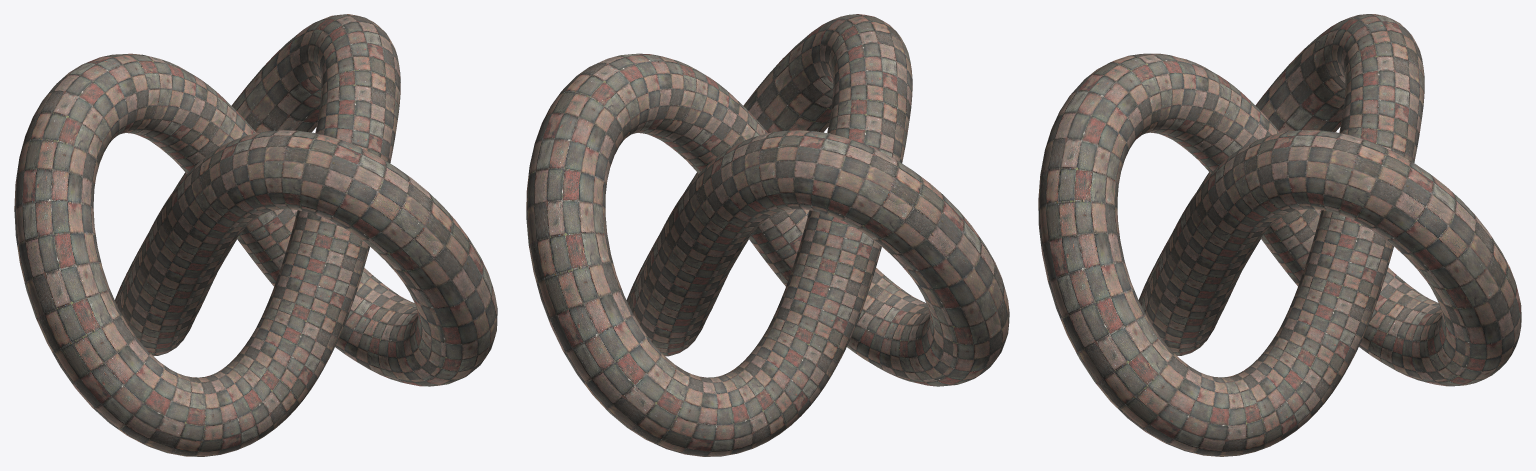
File: knot-embed.gltf
3 renders of one model, left to right at view 1: azimuth 30°, elevation 25°; view 2: azimuth 150°, elevation 25°; view 3: azimuth 270°, elevation 25°, orthographic.
Parts seen in each view (by area): view 1: Torus_Knot001; view 2: Torus_Knot001; view 3: Torus_Knot001.
Part boxes in pixels (x1,y1,x2,y2): Torus_Knot001: [14, 14, 497, 456]; Torus_Knot001: [526, 14, 1009, 456]; Torus_Knot001: [1038, 14, 1521, 456].
Size of the model in its own units: 34.31 by 26.4 by 36.43.
Materials: 1 (1 with a texture image).
